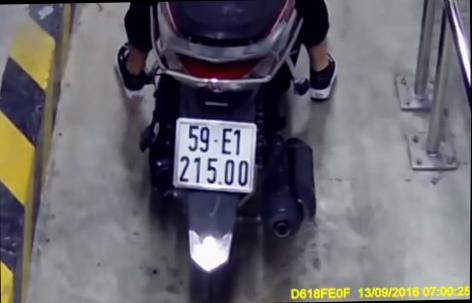LP: (171, 114, 258, 198)
